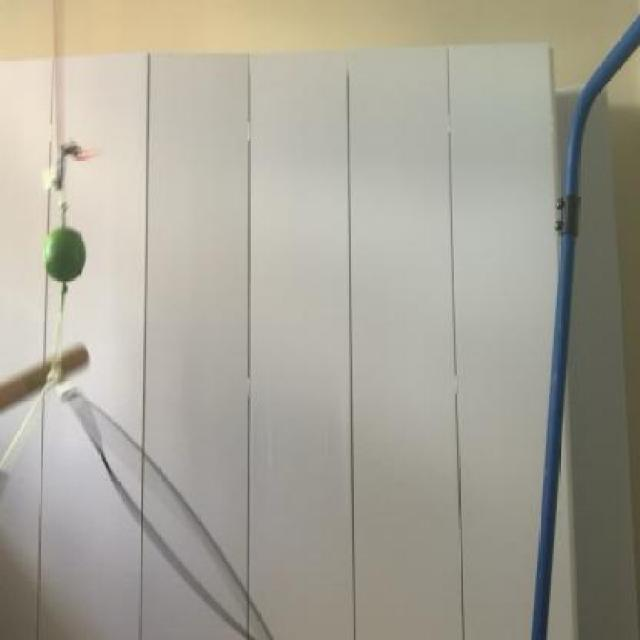baseball: (39, 218, 92, 287)
